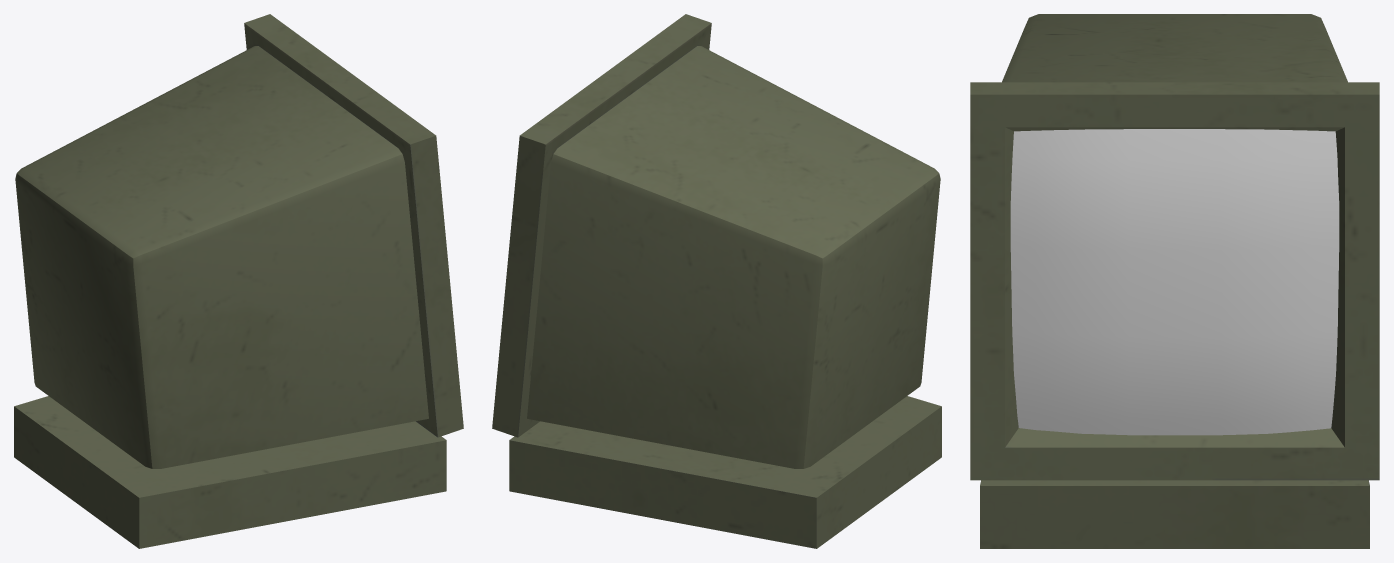
The model's file is Computer_Office.fbx.
3 renders of one model, left to right at view 1: azimuth 30°, elevation 25°; view 2: azimuth 150°, elevation 25°; view 3: azimuth 270°, elevation 25°, orthographic. The views are drawn at different scales.
Visible parts, largest first — view 1: Compute_Office; view 2: Compute_Office; view 3: Compute_Office.
Boxes of the visible parts, x1,y1,x2,y2 form: Compute_Office: [14, 14, 463, 548]; Compute_Office: [492, 14, 941, 548]; Compute_Office: [970, 14, 1379, 548].
Size of the model in its own units: 79.67 by 89.1 by 74.12.
